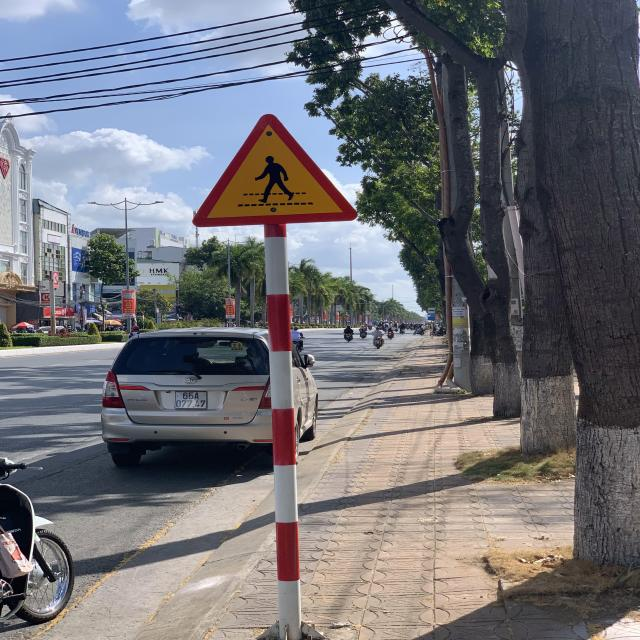Duong_Nguoi_Di_Bo_Sang_Ngang: (192, 114, 358, 226)
